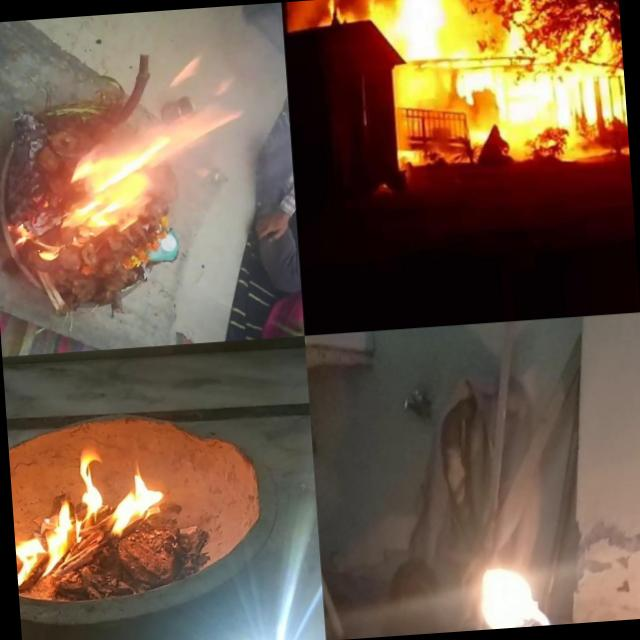fire: (9, 444, 172, 590), (182, 182, 304, 344), (385, 0, 510, 113), (456, 545, 560, 631), (317, 0, 387, 25)
